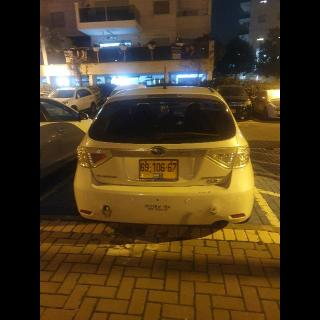LicensePlate: (141, 161, 177, 173)
